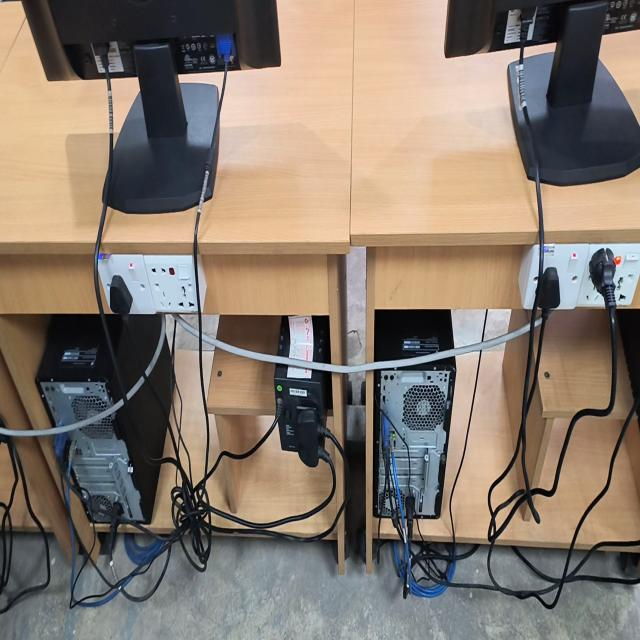Cpu: (40, 383, 142, 519), (376, 365, 455, 517)
Monitor: (22, 0, 281, 213), (444, 0, 640, 185)
